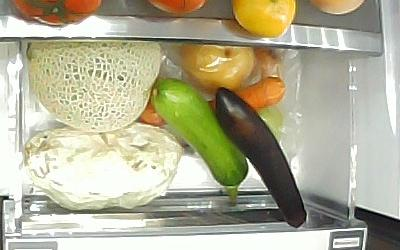cabbage: (25, 124, 183, 211)
carrot: (141, 77, 286, 123)
eggplant: (216, 87, 308, 228)
melon: (27, 41, 161, 134)
pear_vinyl: (179, 45, 255, 94)
tomato_vinyl: (254, 48, 281, 77)
zucchini: (151, 78, 249, 206)
